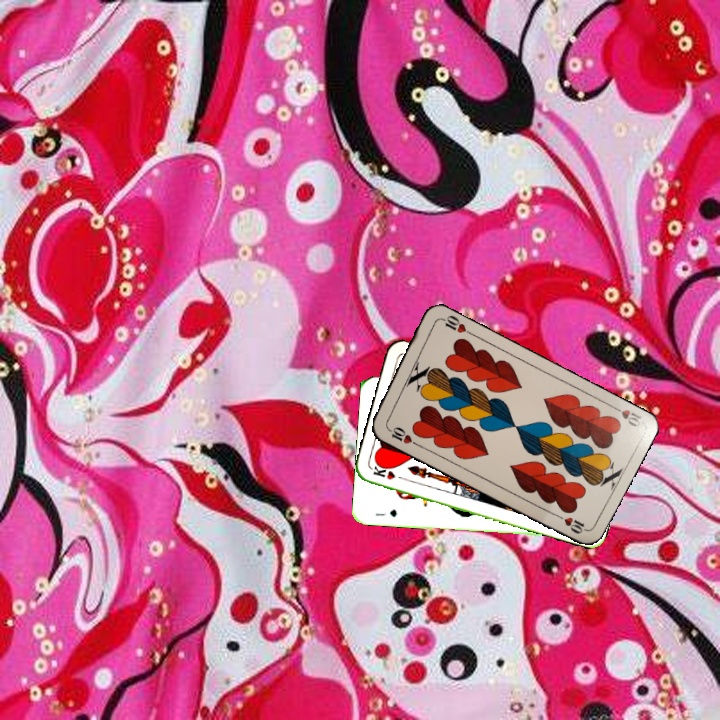GU: (372, 505, 399, 520)
H10: (607, 401, 644, 430), (382, 423, 420, 448)
HK: (369, 462, 409, 483)
